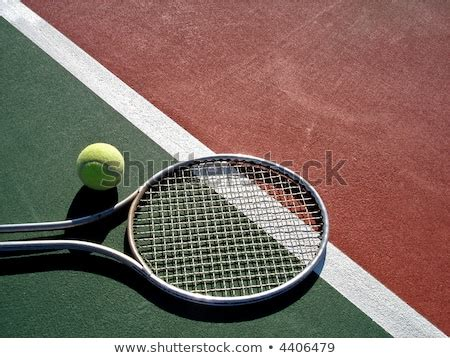tennis_ball: (76, 142, 126, 189)
